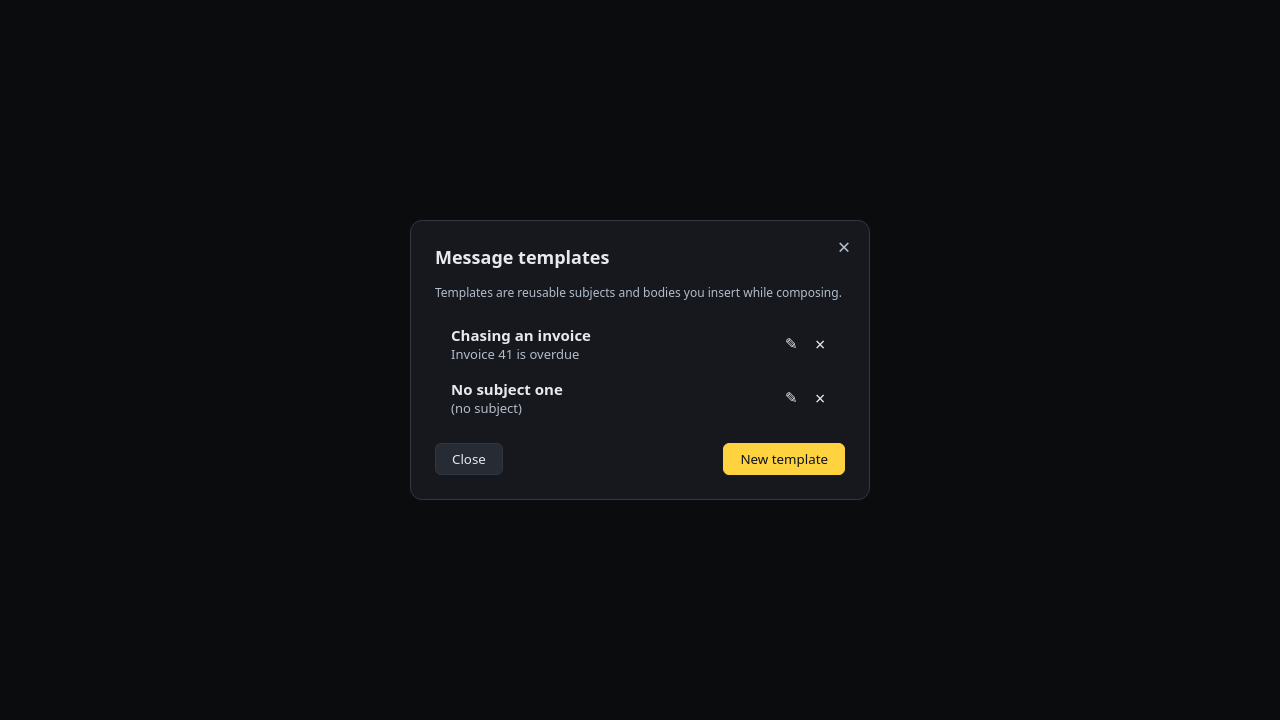
Test: TemplateManagerModal › confirms a delete before it removes anything
Click the button named "Delete Chasing an invoice".
click(820, 344)  # box [809,333,831,355]
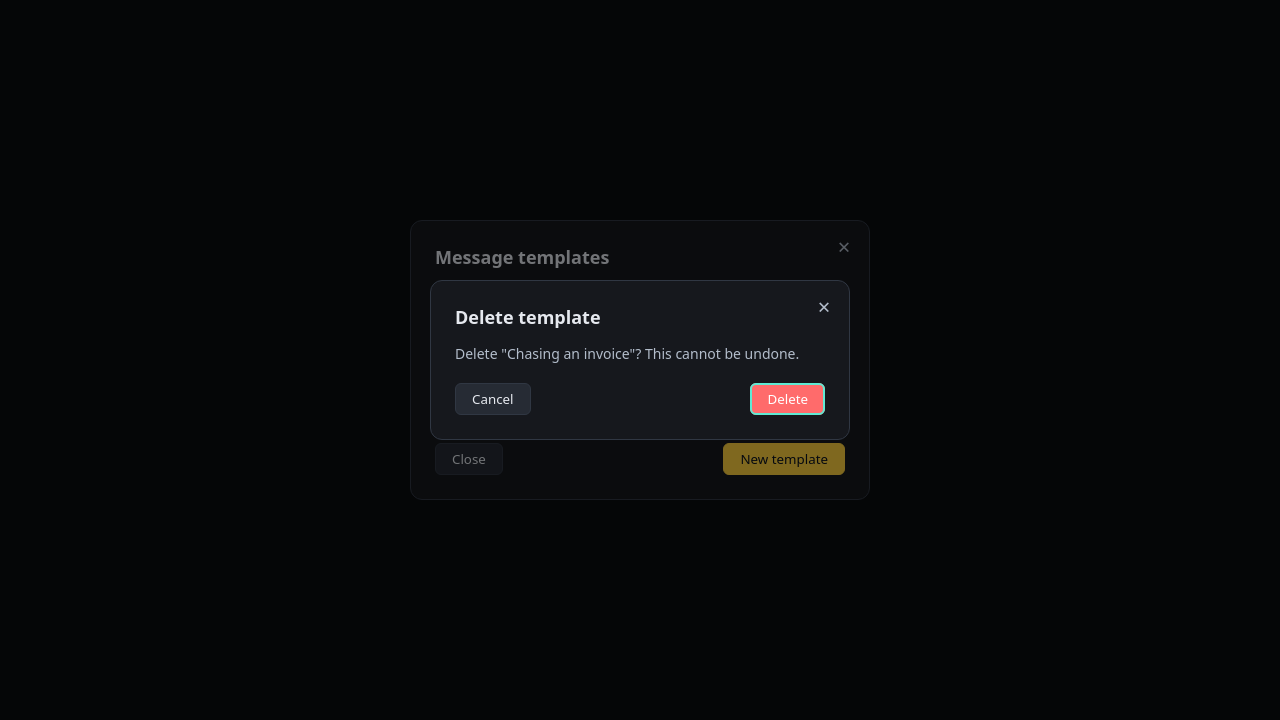
Expected: the text "Delete \"Chasing an invoice\"? This cannot be undone." is shown, [455,343,825,365]
